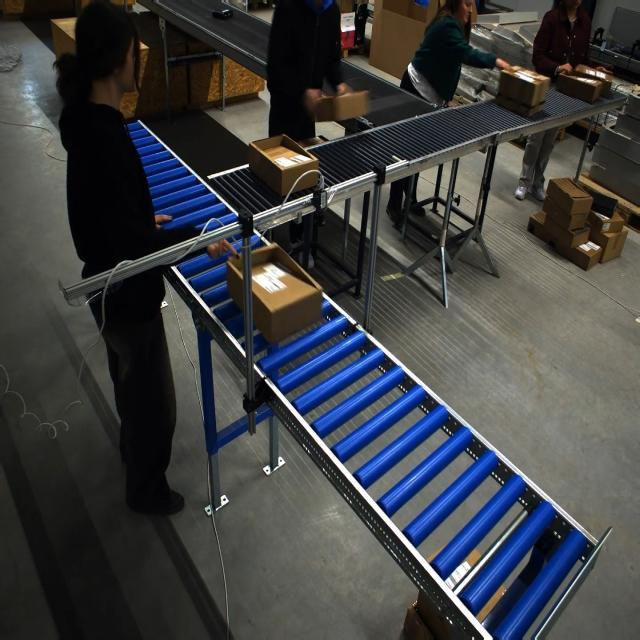box: (226, 242, 321, 345), (246, 134, 318, 197)
product: (211, 8, 233, 20)
